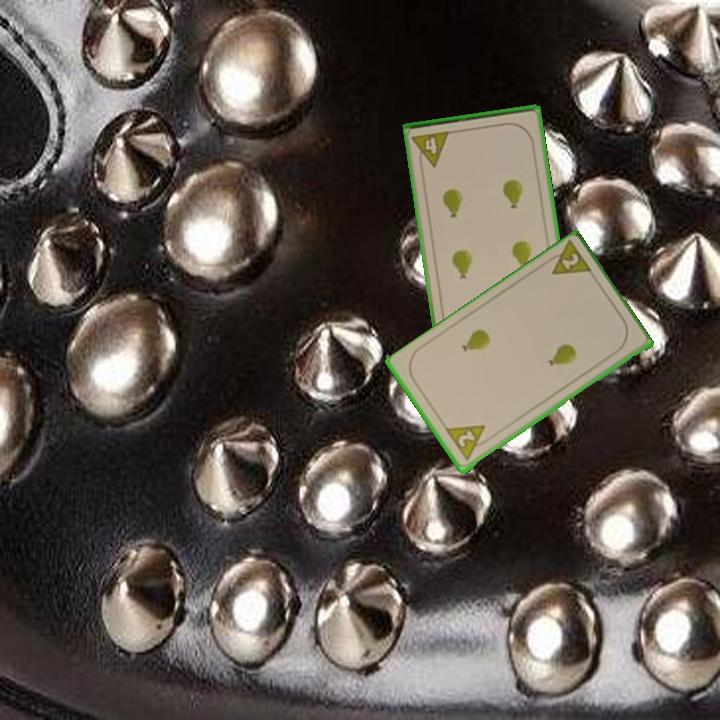2p: (540, 238, 596, 279), (442, 421, 494, 464)
4p: (409, 128, 453, 171)
